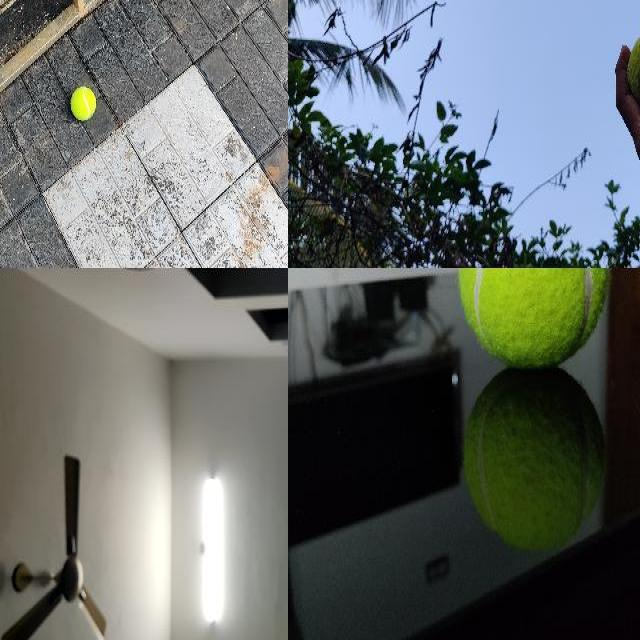tennis-ball: (458, 268, 610, 370), (70, 85, 96, 119)
